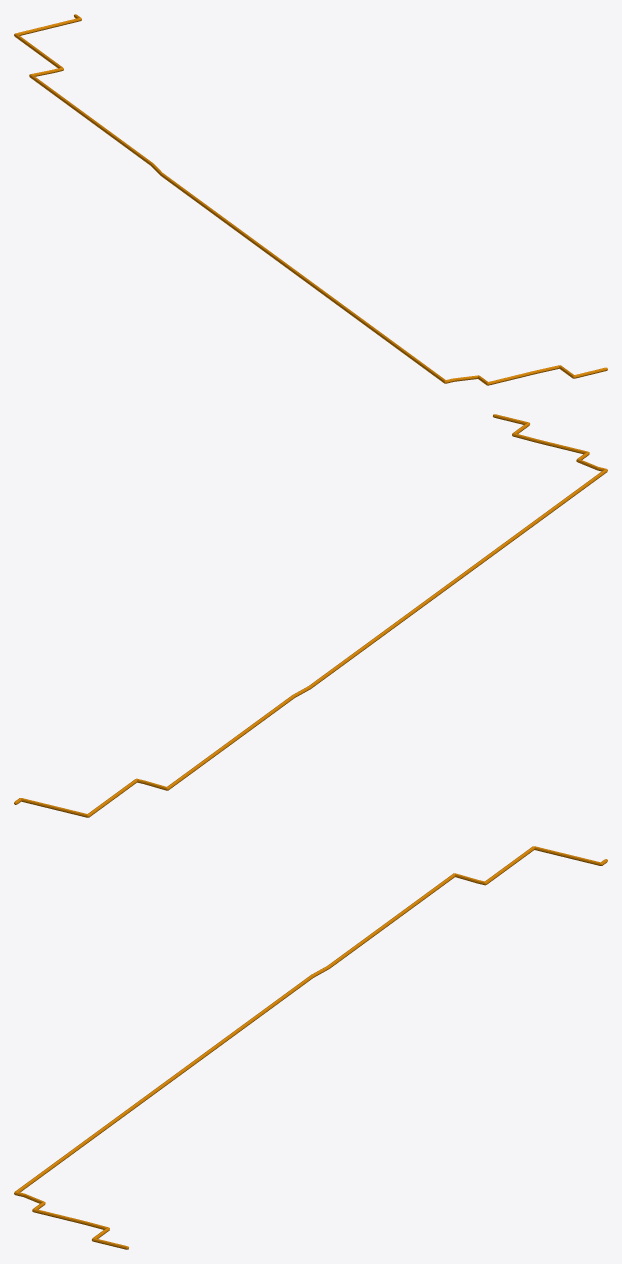
The picture shows the model from 3 angles, top to bottom: view 1: azimuth 30°, elevation 25°; view 2: azimuth 150°, elevation 25°; view 3: azimuth 330°, elevation 25°; orthographic projection. The views are drawn at different scales.
Bounding box in the file's own units: 849 × 20 × 5334.
